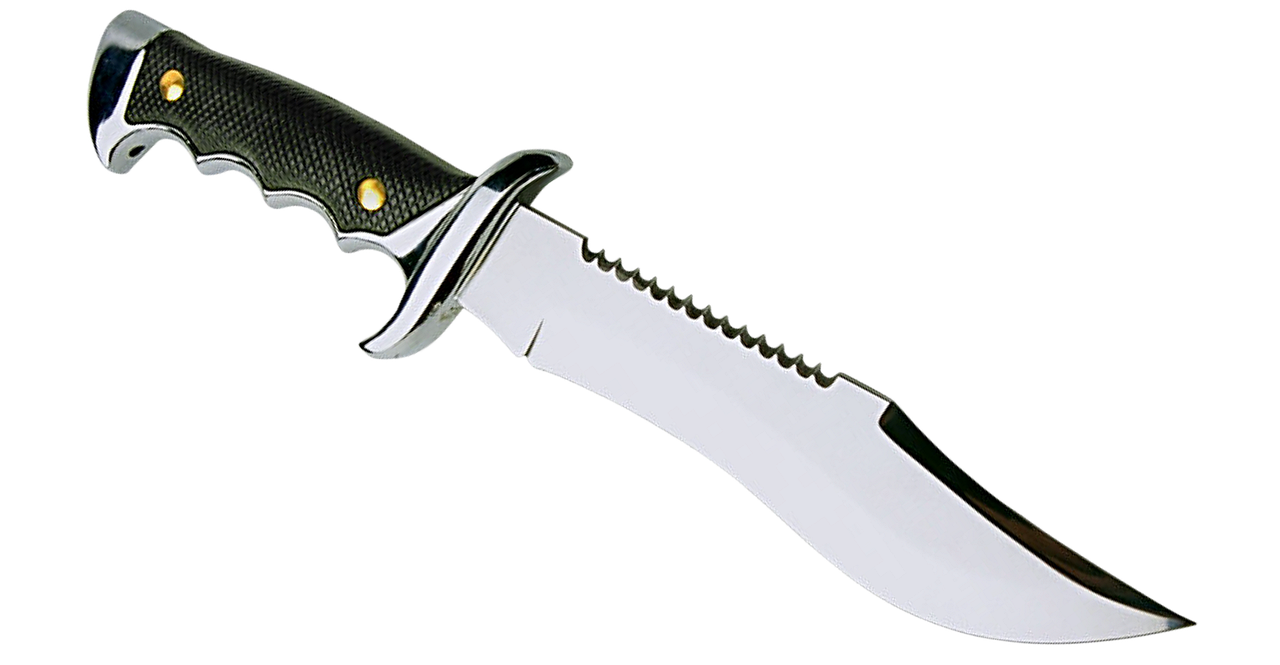knife: (82, 1, 1209, 650)
